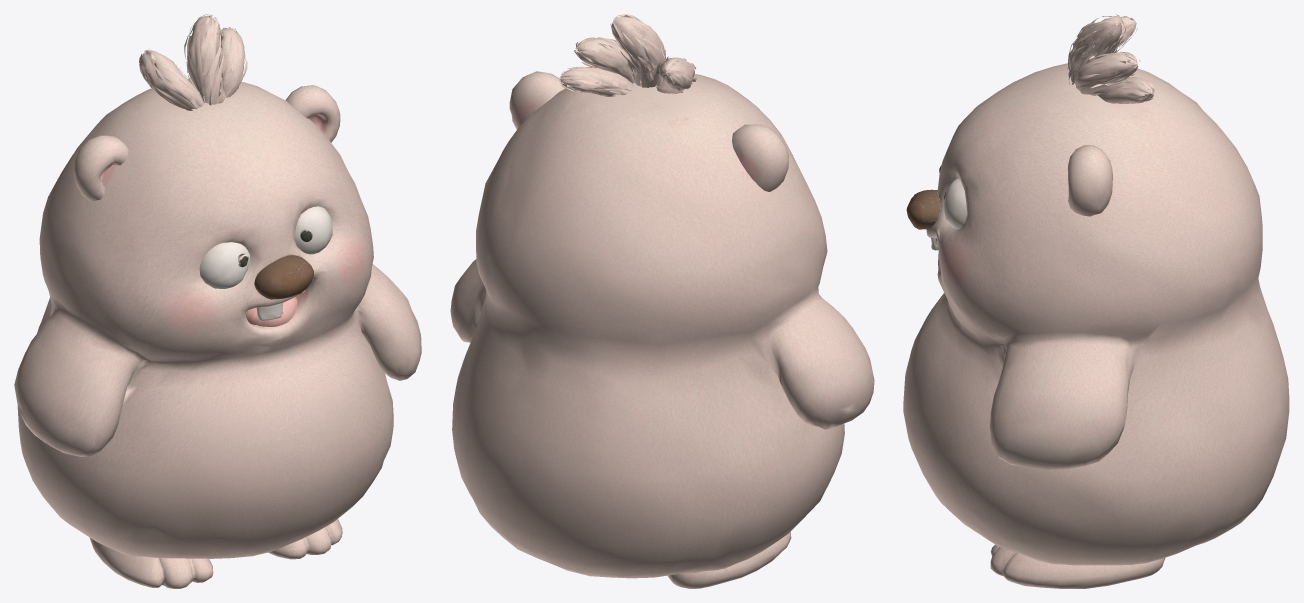
File: monster_bear.glb
3 renders of one model, left to right at view 1: azimuth 30°, elevation 25°; view 2: azimuth 150°, elevation 25°; view 3: azimuth 270°, elevation 25°, orthographic. The views are drawn at different scales.
Size of the model in its own units: 0.7378 by 0.9507 by 0.6289.
Materials: 1 (1 with a texture image).
